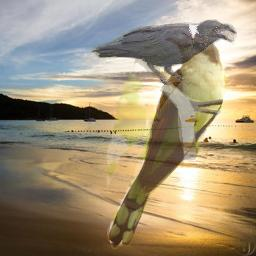Crow: (90, 18, 237, 86)
Cuckoo: (107, 34, 226, 250)
